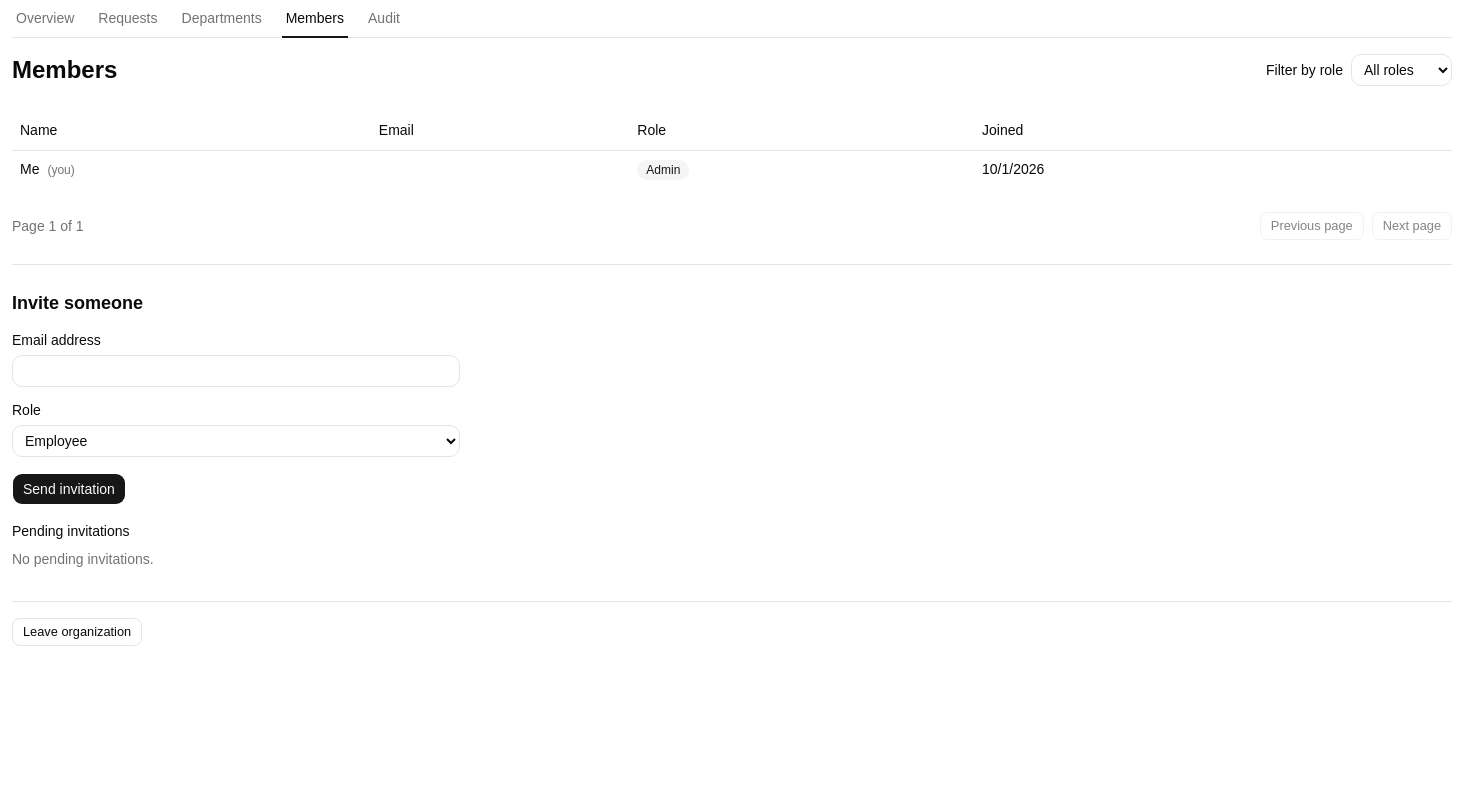
Test: Invitations section › validates the address in the browser
This screenshot has width=1464, height=810.
In the field labelled "Email address": (236, 370) [12,354,460,386], type "not-an-email"
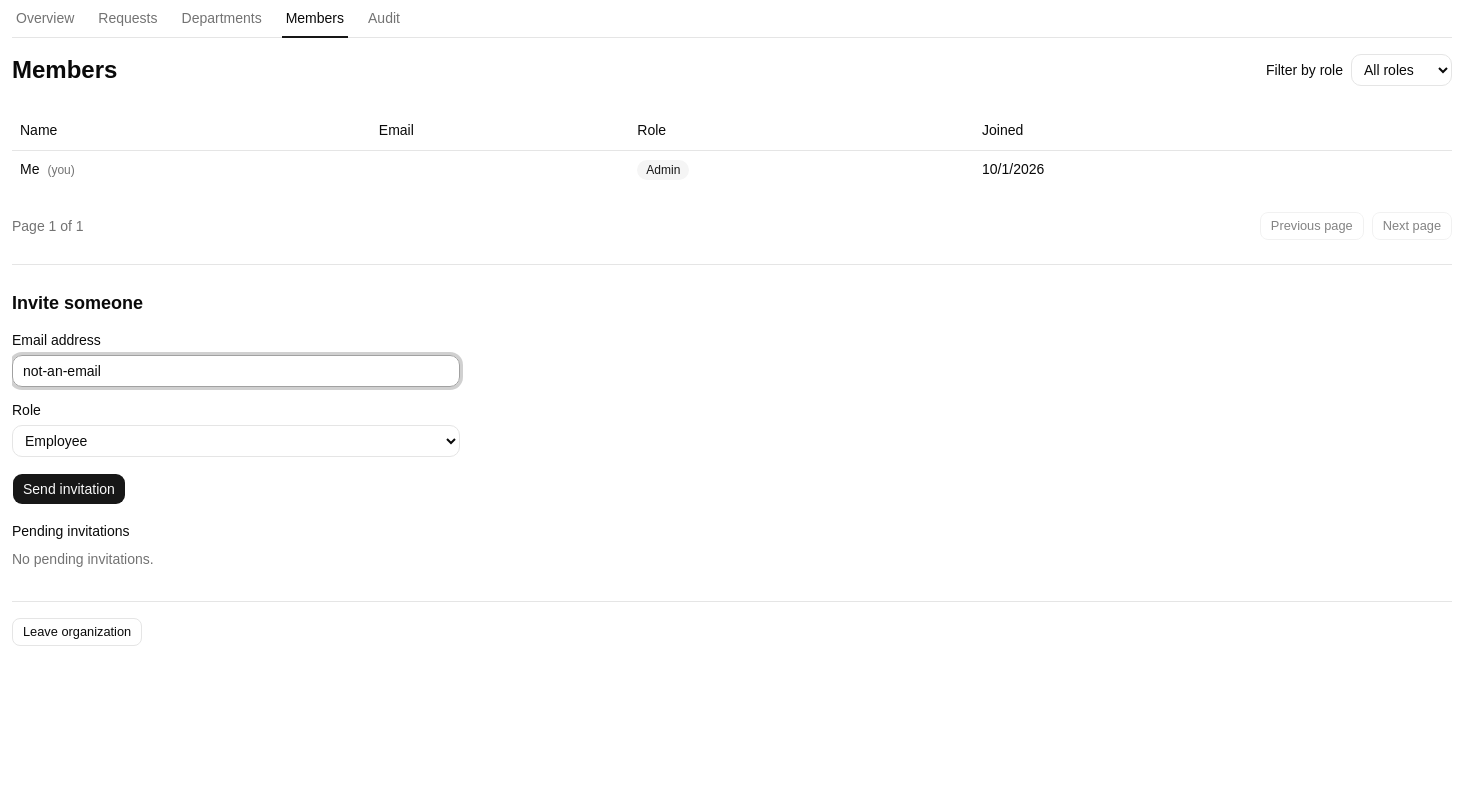
Click the button "Send invitation": (69, 488) [12,472,126,504]
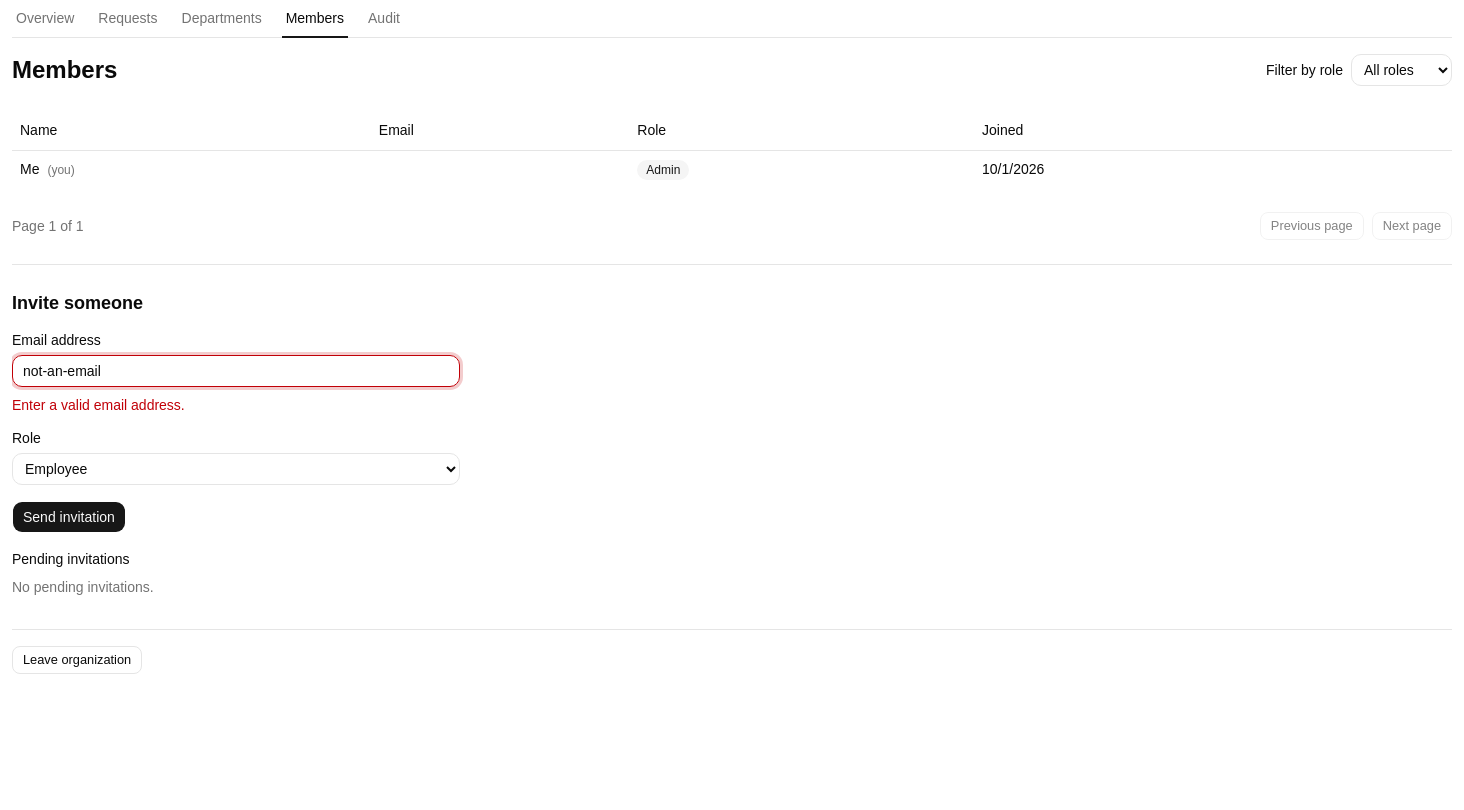
Now the text "Enter a valid email address." is shown, box [12,396,185,412]
